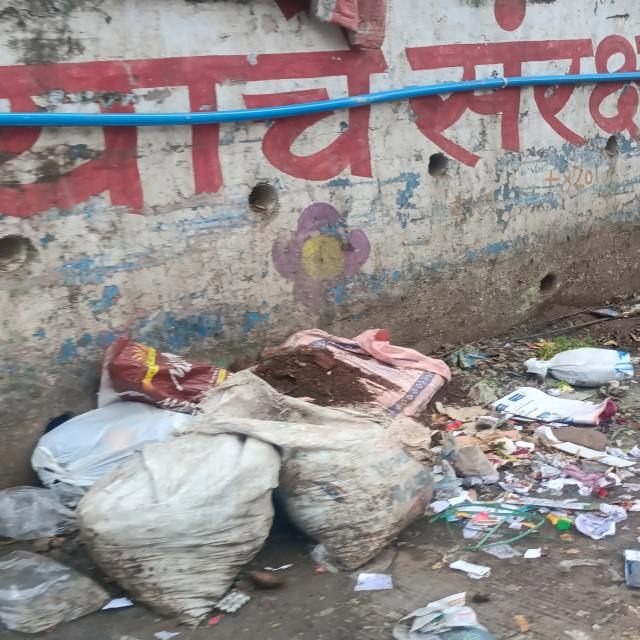garbage: (5, 334, 640, 640)
